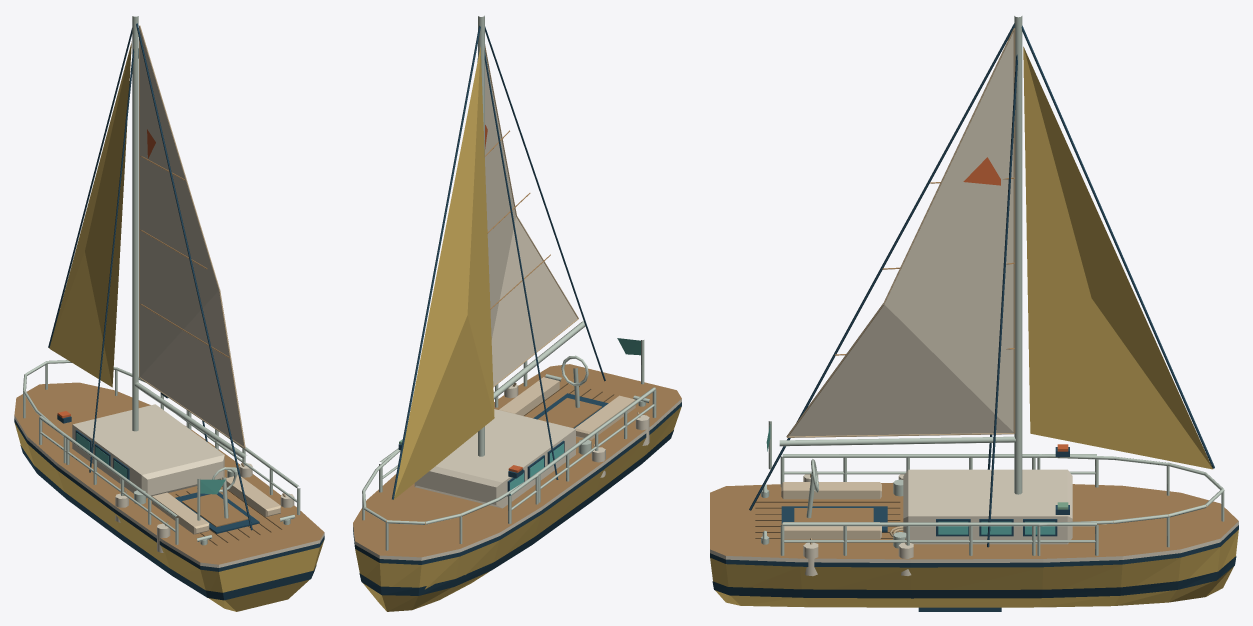
The model's file is sailboat.glb.
The picture shows the model from 3 angles, left to right: view 1: azimuth 30°, elevation 25°; view 2: azimuth 150°, elevation 25°; view 3: azimuth 270°, elevation 25°; orthographic projection. The views are drawn at different scales.
Parts seen in each view (by area): view 1: static_painted, static_metal, static_dark; view 2: static_painted, static_metal, static_dark; view 3: static_painted, static_metal, static_dark, static_glass.
Boxes of the visible parts, bbox=[...] form: static_painted: bbox=[14, 25, 324, 611]; static_metal: bbox=[23, 16, 300, 545]; static_dark: bbox=[48, 23, 259, 533]; static_painted: bbox=[353, 44, 681, 611]; static_metal: bbox=[362, 15, 656, 550]; static_dark: bbox=[392, 25, 608, 499]; static_painted: bbox=[710, 28, 1238, 607]; static_metal: bbox=[761, 16, 1224, 555]; static_dark: bbox=[749, 23, 1214, 611]; static_glass: bbox=[938, 521, 1055, 534].
Bounding box in the file's own units: 2.4 × 8.69 × 7.
